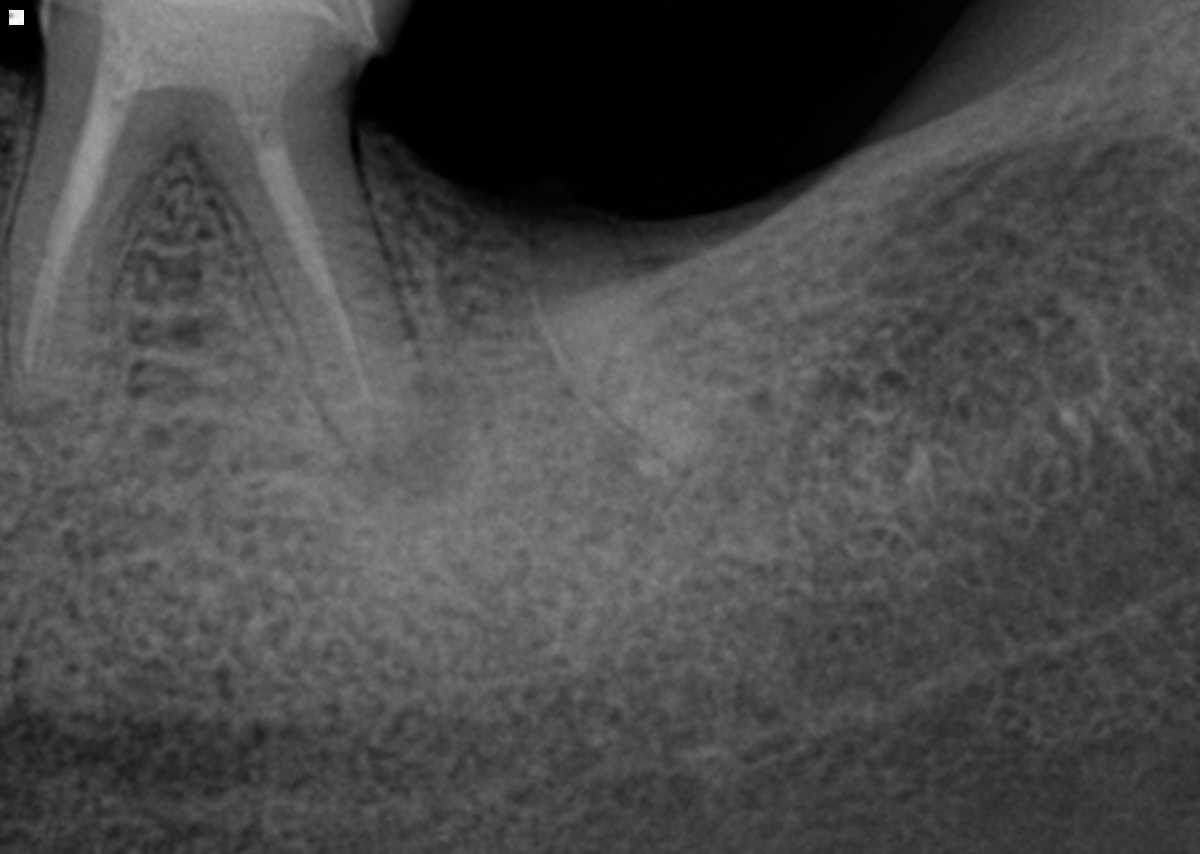Apical Lesion: (367, 377, 481, 503)
Distal Root: (187, 104, 423, 472)
Mesial Root: (0, 91, 184, 404)
Root Canal Filling: (247, 139, 373, 407), (23, 104, 125, 377)
